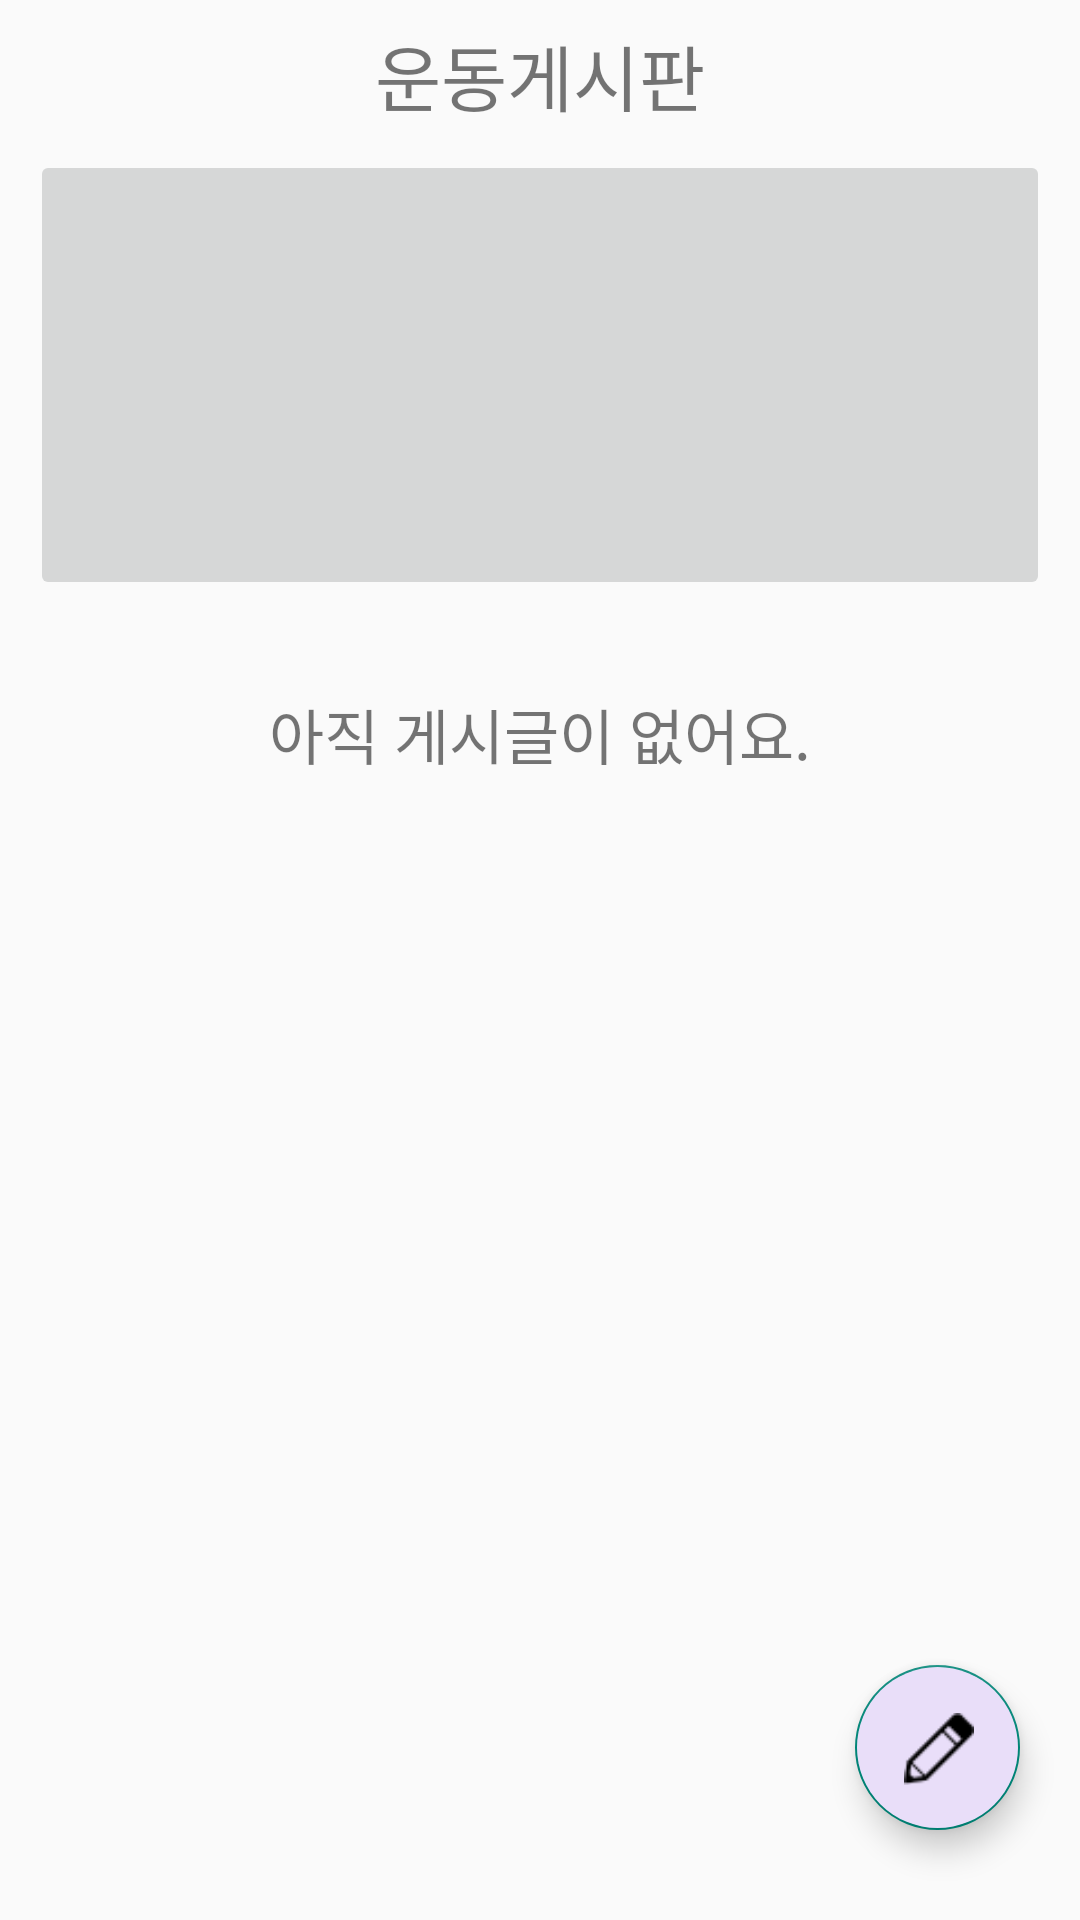

Screen size 1080 × 1920. Icon name, then its box in pixels as (x1, y1, x2, y2):
pencil: (855, 1665, 1020, 1830)
